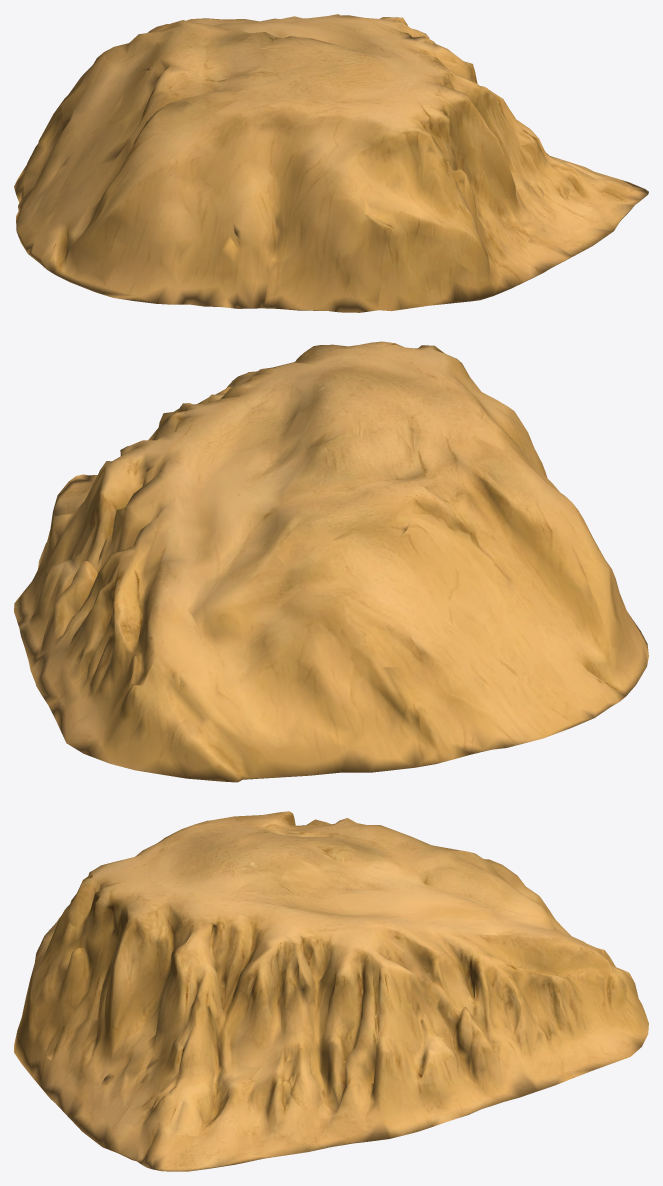
File: sandstone-peak.glb
3 views of the same model, one above another, from view 1: azimuth 30°, elevation 25°; view 2: azimuth 150°, elevation 25°; view 3: azimuth 270°, elevation 25° (orthographic). The views are drawn at different scales.
Visible parts, largest first — view 1: Landscape asset / sandstone-peak; view 2: Landscape asset / sandstone-peak; view 3: Landscape asset / sandstone-peak.
Boxes of the visible parts, x1=… form: Landscape asset / sandstone-peak: x1=14, y1=14, x2=648, y2=312; Landscape asset / sandstone-peak: x1=14, y1=341, x2=648, y2=782; Landscape asset / sandstone-peak: x1=14, y1=811, x2=648, y2=1171.
Bounding box in the file's own units: 1 × 0.33 × 0.9992.
1 material, 1 textured.
